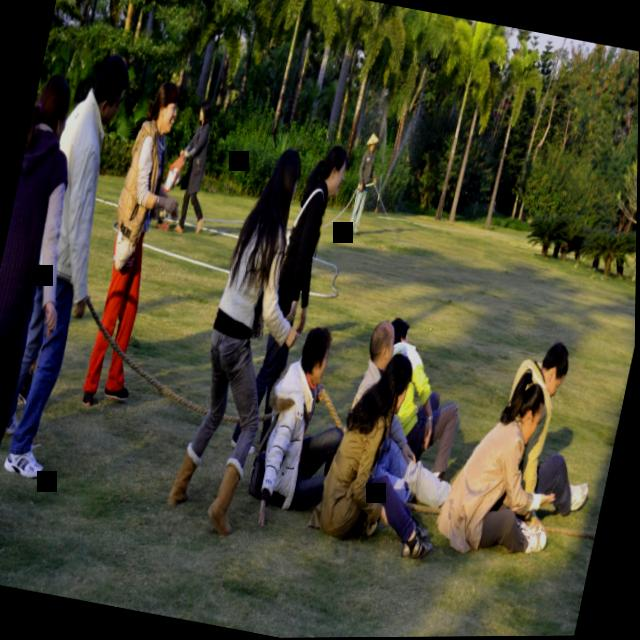Fall-Detected: (355, 301, 492, 490)
